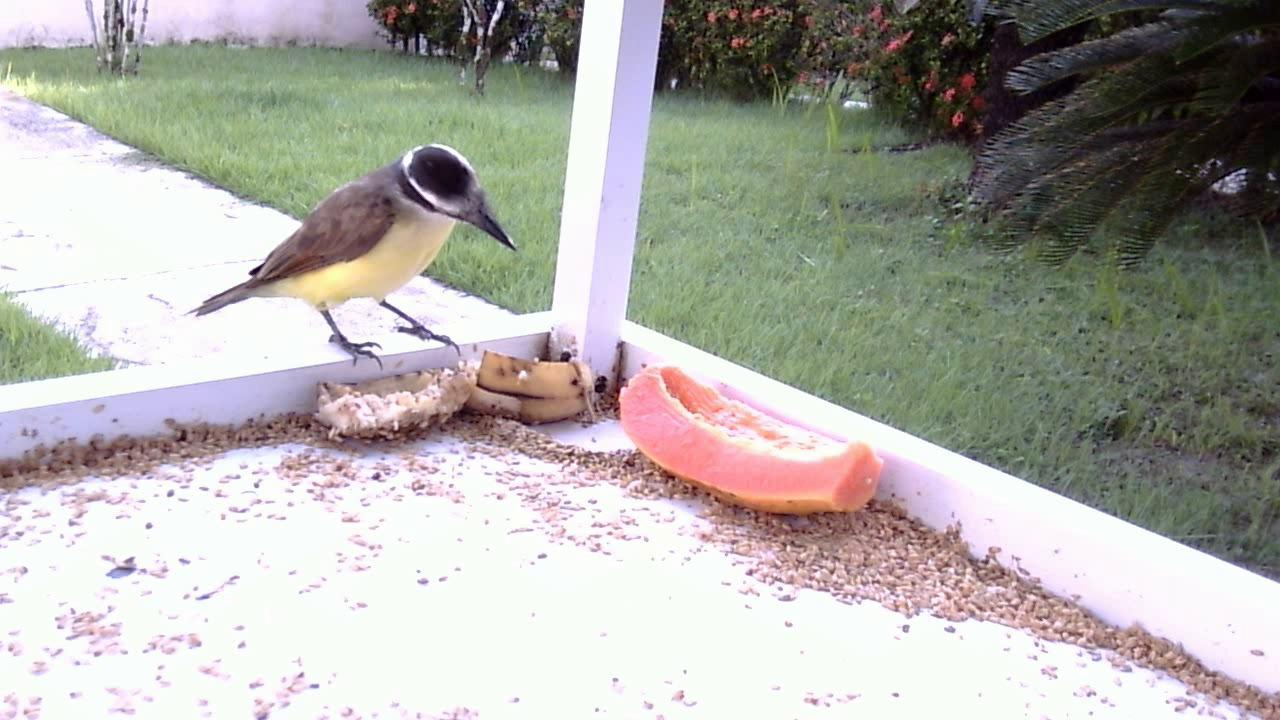bem_te_vi: (177, 135, 522, 378)
